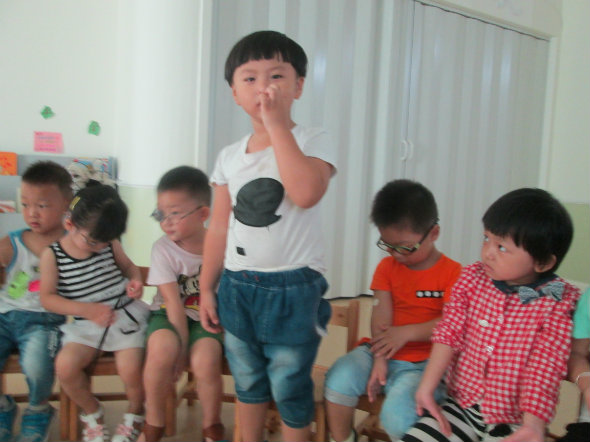face: (233, 54, 296, 119), (376, 220, 433, 263), (481, 225, 523, 280), (158, 190, 195, 238), (21, 185, 56, 230), (77, 219, 116, 252)
